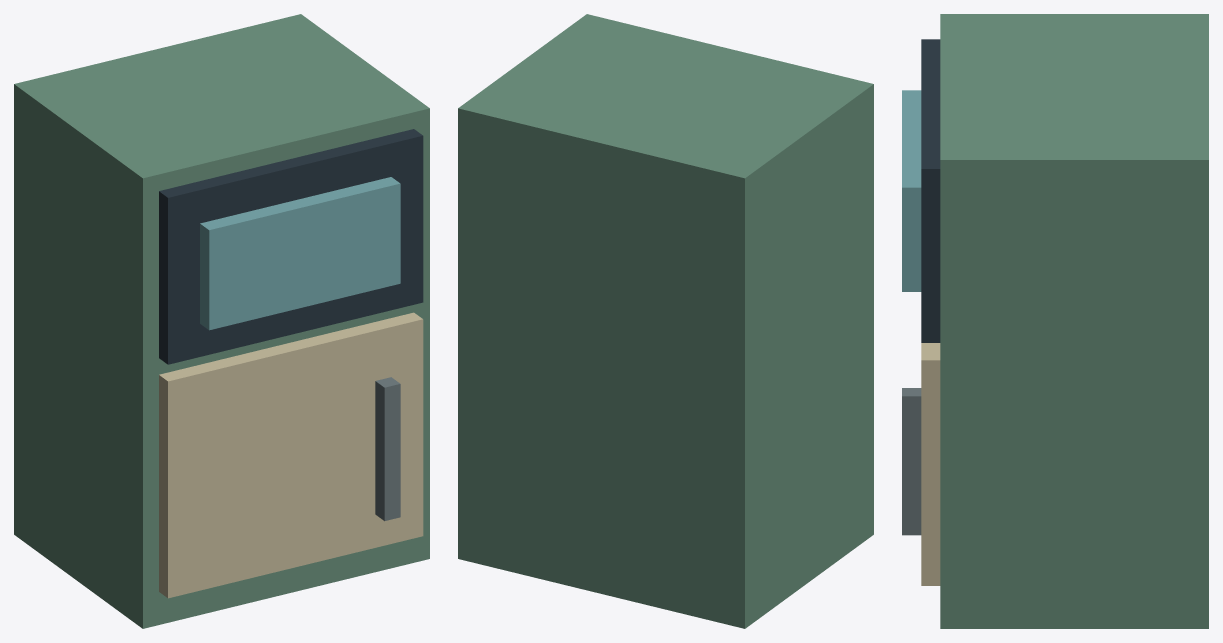
Rendered from finance-07.glb.
The picture shows the model from 3 angles, left to right: view 1: azimuth 30°, elevation 25°; view 2: azimuth 150°, elevation 25°; view 3: azimuth 270°, elevation 25°; orthographic projection. The views are drawn at different scales.
Parts seen in each view (by area): view 1: ATM kiosk; view 2: ATM kiosk; view 3: ATM kiosk.
Part boxes in pixels (bbox=[...]): ATM kiosk: bbox=[14, 14, 429, 628]; ATM kiosk: bbox=[458, 14, 873, 628]; ATM kiosk: bbox=[902, 14, 1208, 628].
Bounding box in the file's own units: 1.44 × 2.16 × 1.28.
